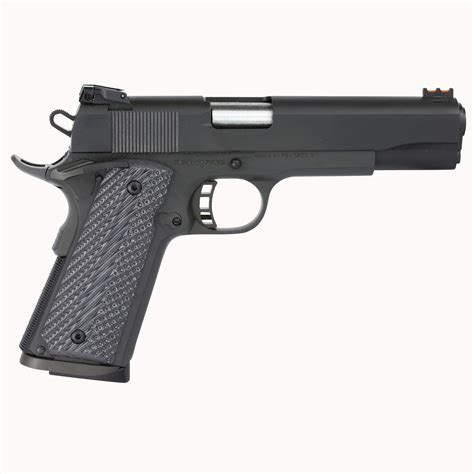gun: (11, 81, 465, 381)
